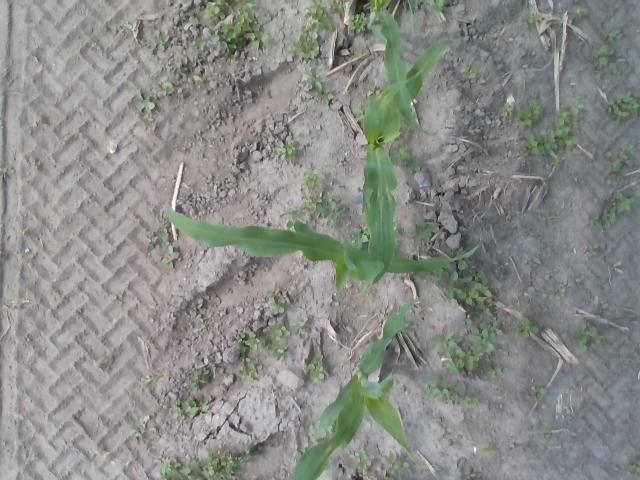Maize: (166, 205, 484, 296), (354, 40, 451, 296), (287, 298, 420, 480), (368, 0, 434, 135)
Weeds: (157, 440, 267, 480), (522, 121, 572, 154), (608, 90, 639, 124), (428, 331, 461, 359), (290, 34, 320, 60), (456, 342, 483, 370), (220, 16, 250, 41), (184, 395, 213, 419), (516, 100, 542, 125), (306, 355, 328, 384), (128, 414, 156, 436), (245, 23, 269, 48), (319, 202, 345, 225), (577, 324, 601, 348), (261, 340, 289, 360), (457, 246, 478, 272), (186, 368, 210, 390), (386, 455, 412, 475), (515, 318, 541, 338), (414, 226, 440, 244), (390, 144, 410, 167), (309, 11, 332, 31), (200, 3, 226, 20), (474, 329, 494, 351), (306, 68, 326, 90), (149, 30, 169, 52), (479, 319, 502, 338), (422, 376, 440, 400), (136, 88, 154, 112), (274, 142, 295, 160), (349, 11, 366, 33), (268, 294, 286, 314), (163, 246, 179, 268), (561, 100, 584, 115), (358, 445, 371, 471), (243, 331, 260, 350), (453, 288, 472, 304), (596, 46, 612, 65), (452, 272, 472, 287), (616, 196, 634, 212), (317, 87, 333, 105), (247, 364, 263, 382), (269, 326, 289, 340), (466, 312, 479, 333), (237, 0, 254, 16), (279, 208, 306, 218), (482, 276, 493, 300), (302, 24, 319, 39), (443, 378, 461, 392), (604, 207, 616, 228), (548, 286, 566, 300), (612, 159, 630, 173), (303, 194, 321, 208), (309, 0, 327, 14), (304, 169, 326, 180), (352, 228, 368, 243), (196, 36, 220, 46), (407, 157, 421, 174), (568, 8, 587, 20), (144, 236, 158, 252), (535, 424, 551, 438), (461, 394, 478, 407), (468, 281, 483, 295), (290, 319, 304, 334), (24, 157, 40, 170), (493, 263, 505, 279), (162, 82, 175, 96), (532, 386, 544, 401), (474, 294, 486, 309), (412, 218, 427, 230), (608, 30, 623, 42), (162, 228, 173, 244), (629, 457, 640, 473), (300, 182, 322, 190), (178, 55, 188, 72), (523, 13, 539, 23), (586, 243, 599, 255), (354, 107, 366, 120), (591, 214, 602, 228), (369, 85, 381, 97), (501, 103, 512, 116), (1, 166, 14, 177), (558, 114, 572, 124), (608, 64, 622, 74), (483, 308, 495, 319), (622, 145, 636, 154), (228, 41, 242, 50), (141, 376, 152, 387), (488, 368, 503, 376), (463, 67, 475, 77), (172, 406, 182, 418), (633, 190, 640, 206), (552, 158, 562, 169), (436, 1, 446, 12), (178, 84, 189, 94), (94, 446, 107, 454), (193, 74, 206, 82), (144, 112, 154, 122), (474, 270, 484, 280), (330, 0, 340, 9), (182, 141, 192, 150), (242, 371, 254, 378), (322, 193, 331, 202), (100, 354, 110, 362), (442, 396, 452, 404), (456, 348, 466, 356), (234, 346, 246, 352), (444, 389, 454, 396), (484, 449, 494, 456), (466, 473, 476, 480), (200, 317, 207, 327), (238, 332, 245, 342), (615, 191, 622, 200), (612, 464, 620, 471), (598, 303, 602, 317), (240, 357, 250, 362), (615, 174, 623, 180), (166, 373, 172, 380), (354, 50, 360, 57), (197, 132, 202, 140), (110, 294, 116, 300), (602, 30, 606, 39), (238, 366, 245, 371), (218, 133, 225, 138), (494, 142, 499, 149), (119, 294, 122, 304), (124, 22, 129, 27), (617, 58, 625, 61), (128, 24, 132, 30), (0, 250, 4, 254), (622, 155, 626, 159), (636, 451, 638, 456), (612, 174, 616, 176)
